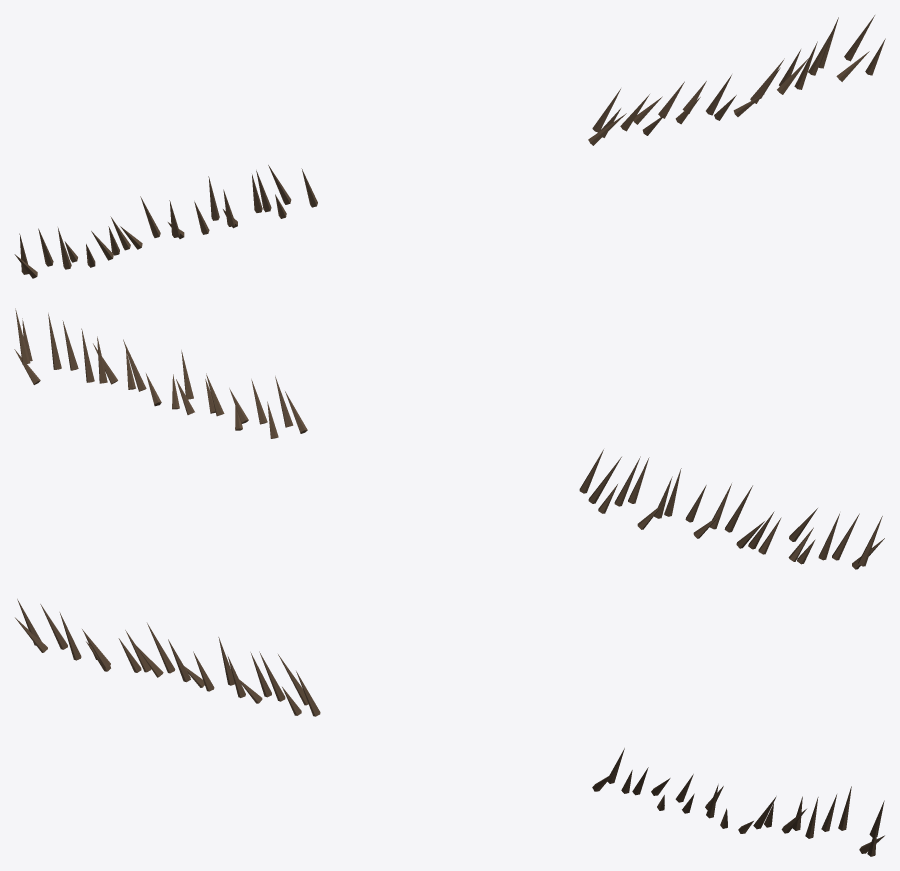
File: straight.glb
3 views of the same model, one above another, from view 1: azimuth 30°, elevation 25°; view 2: azimuth 150°, elevation 25°; view 3: azimuth 330°, elevation 25° (orthographic).
Size of the model in its own units: 0.1766 by 0.0142 by 0.00788.
